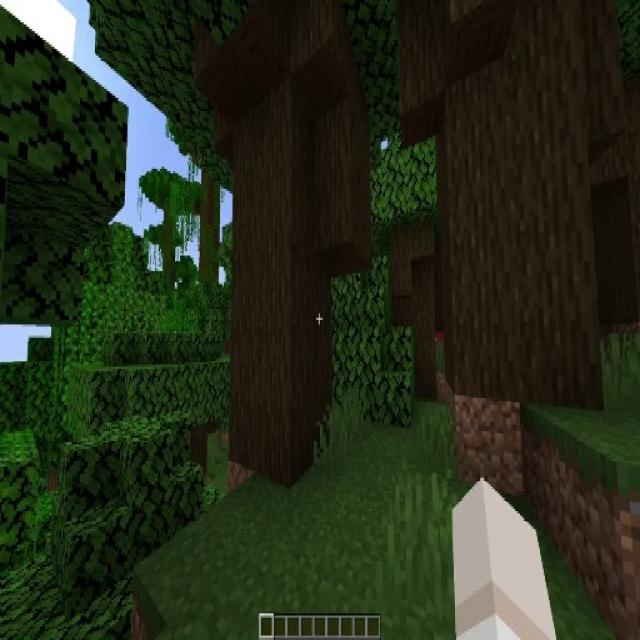dark_oak: (372, 139, 438, 400)
dark_oak_log: (412, 0, 634, 401), (225, 10, 372, 479), (390, 235, 435, 397)
jungle: (138, 159, 200, 279)
jungle_log: (199, 175, 220, 284)
